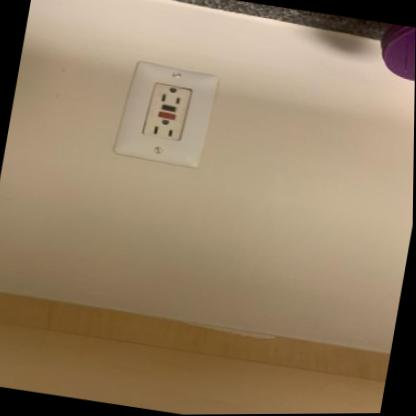OUTLET: (110, 59, 221, 169)
